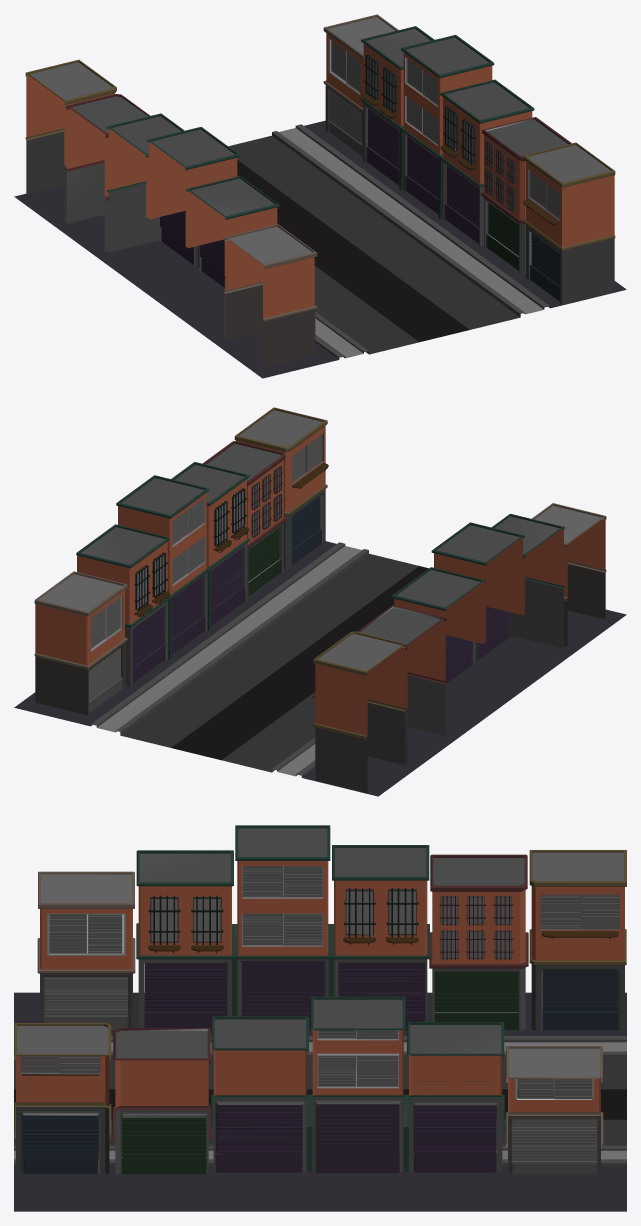
Rendered from Tile_Rua.fbx.
3 renders of one model, top to bottom at view 1: azimuth 30°, elevation 25°; view 2: azimuth 150°, elevation 25°; view 3: azimuth 270°, elevation 25°, orthographic. The views are drawn at different scales.
Parts seen in each view (by area): view 1: Tile_Rua_1; view 2: Tile_Rua_1; view 3: Tile_Rua_1.
Boxes of the visible parts, x1=… form: Tile_Rua_1: x1=14, y1=14, x2=626, y2=378; Tile_Rua_1: x1=14, y1=407, x2=626, y2=796; Tile_Rua_1: x1=14, y1=825, x2=626, y2=1211.
Size of the model in its own units: 1521 by 574 by 1797.
